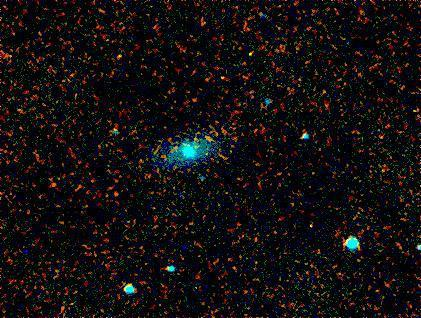star: (195, 123, 225, 153)
